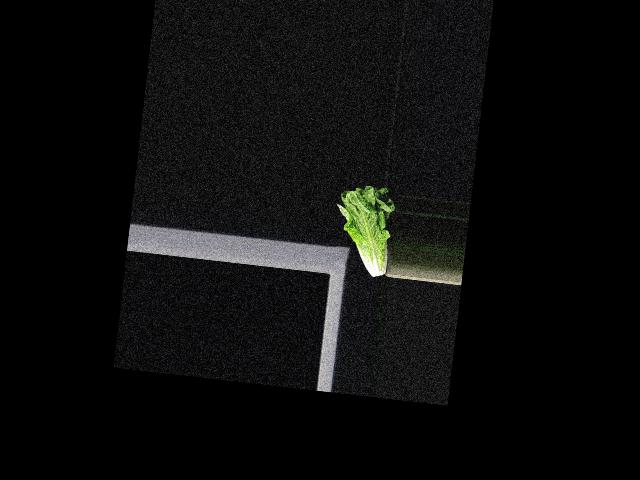lettuce: (330, 180, 397, 279)
